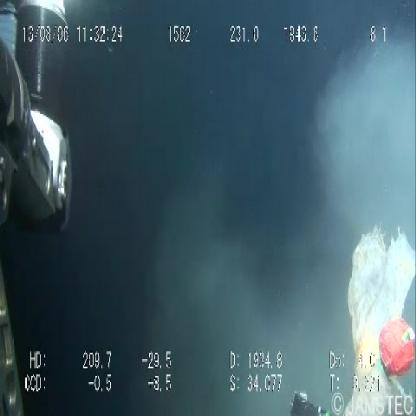Rov: (1, 1, 91, 416)
Rác: (332, 214, 416, 416)
